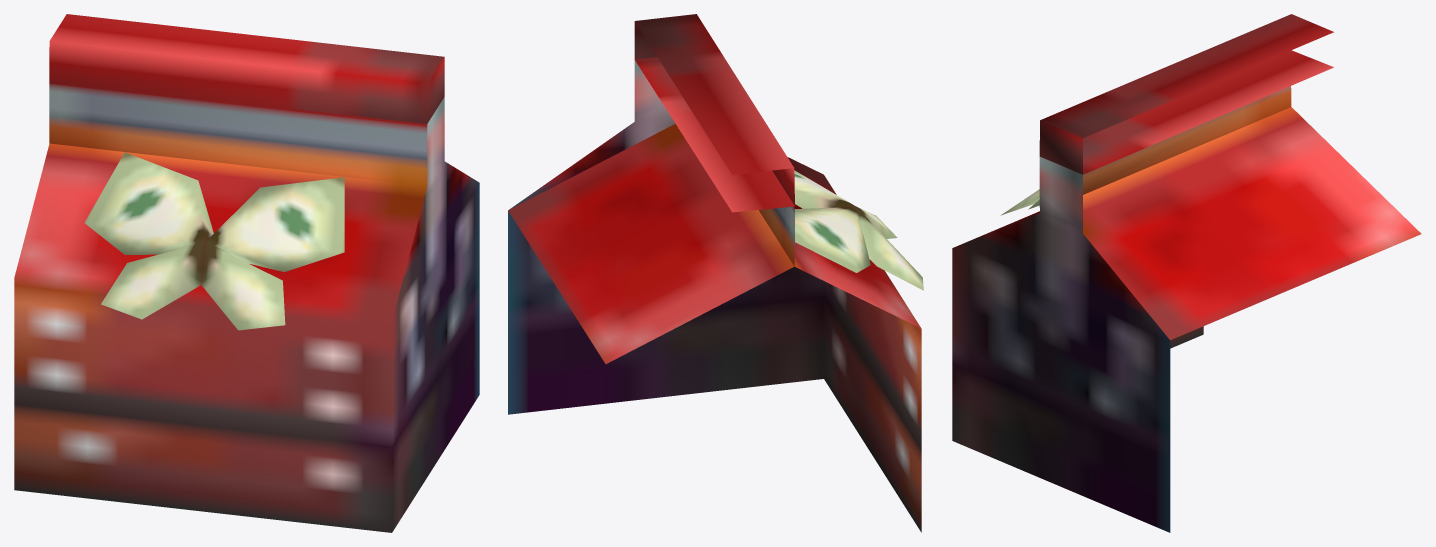
File: fg_toolbox_A_out.dae
The picture shows the model from 3 angles, left to right: view 1: azimuth 30°, elevation 25°; view 2: azimuth 150°, elevation 25°; view 3: azimuth 270°, elevation 25°; orthographic projection. The views are drawn at different scales.
Visible parts, largest first — view 1: fg_toolbox_A_out; view 2: fg_toolbox_A_out; view 3: fg_toolbox_A_out.
Part boxes in pixels (x1,y1,x2,y2): fg_toolbox_A_out: (14,14,479,532); fg_toolbox_A_out: (508,14,923,532); fg_toolbox_A_out: (952,14,1421,532).
Bounding box in the file's own units: 19.8 × 16.64 × 19.8.
Materials: 1 (1 with a texture image).
